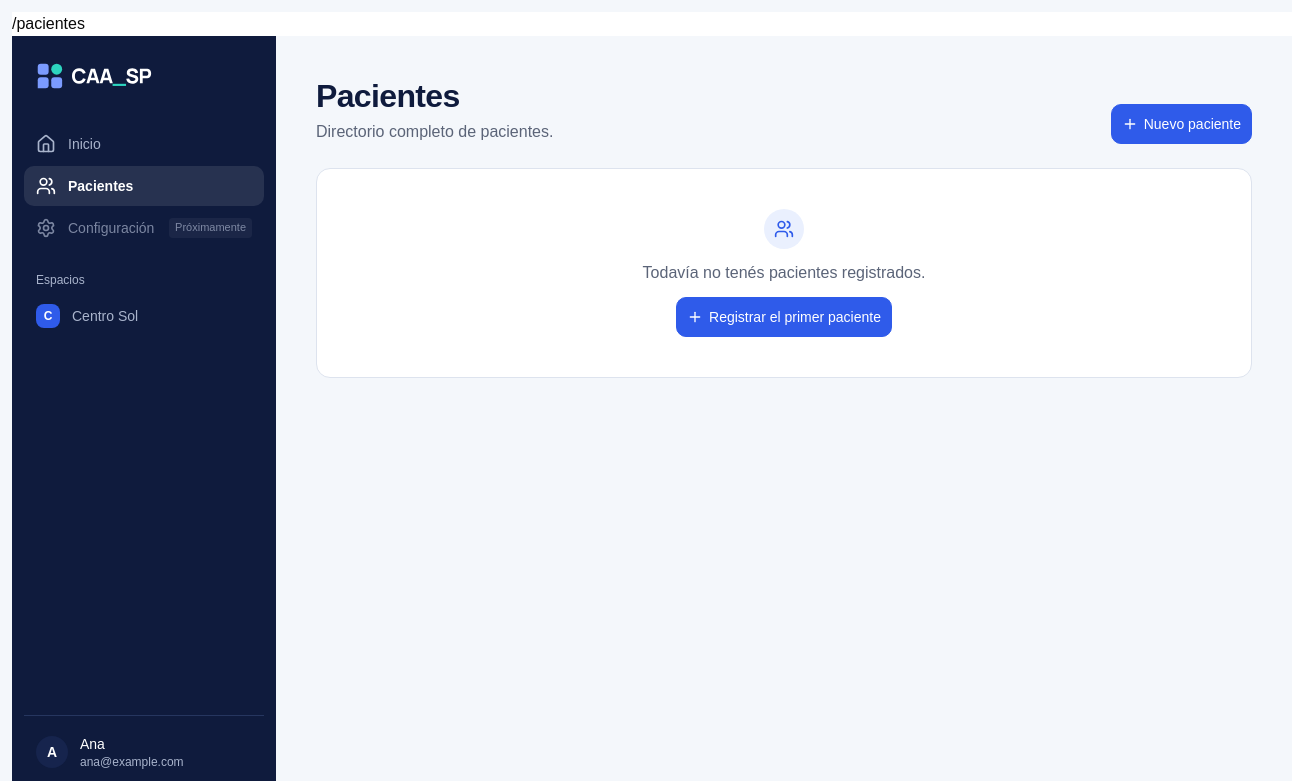
list states › offers the first patient from the empty list
The image size is (1292, 781).
Click the button "Registrar el primer paciente".
click(784, 317)  # box [676,297,892,337]
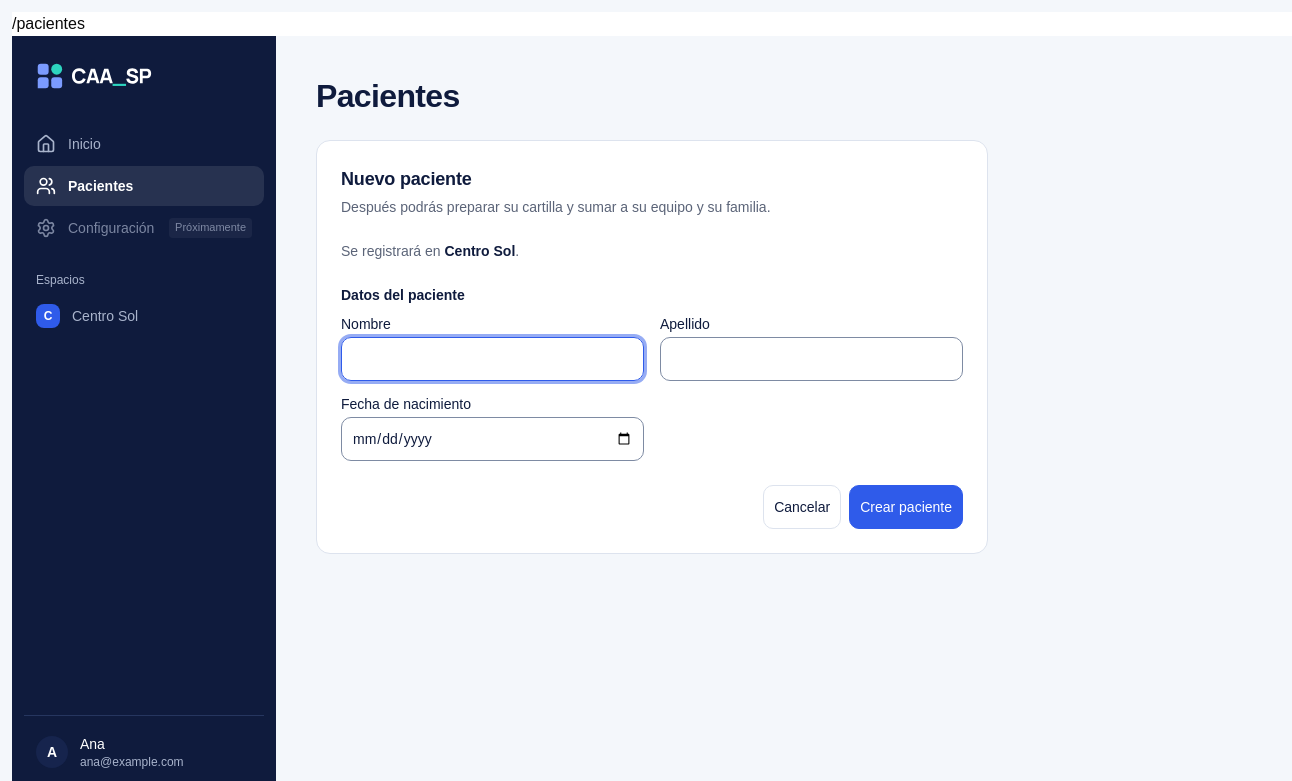
Expected: the form "Nuevo paciente" is shown, [316,140,988,554]
